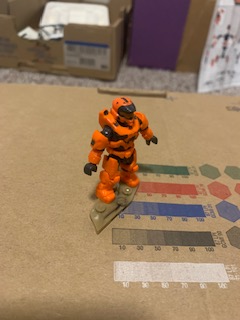soldier: (81, 96, 160, 206)
